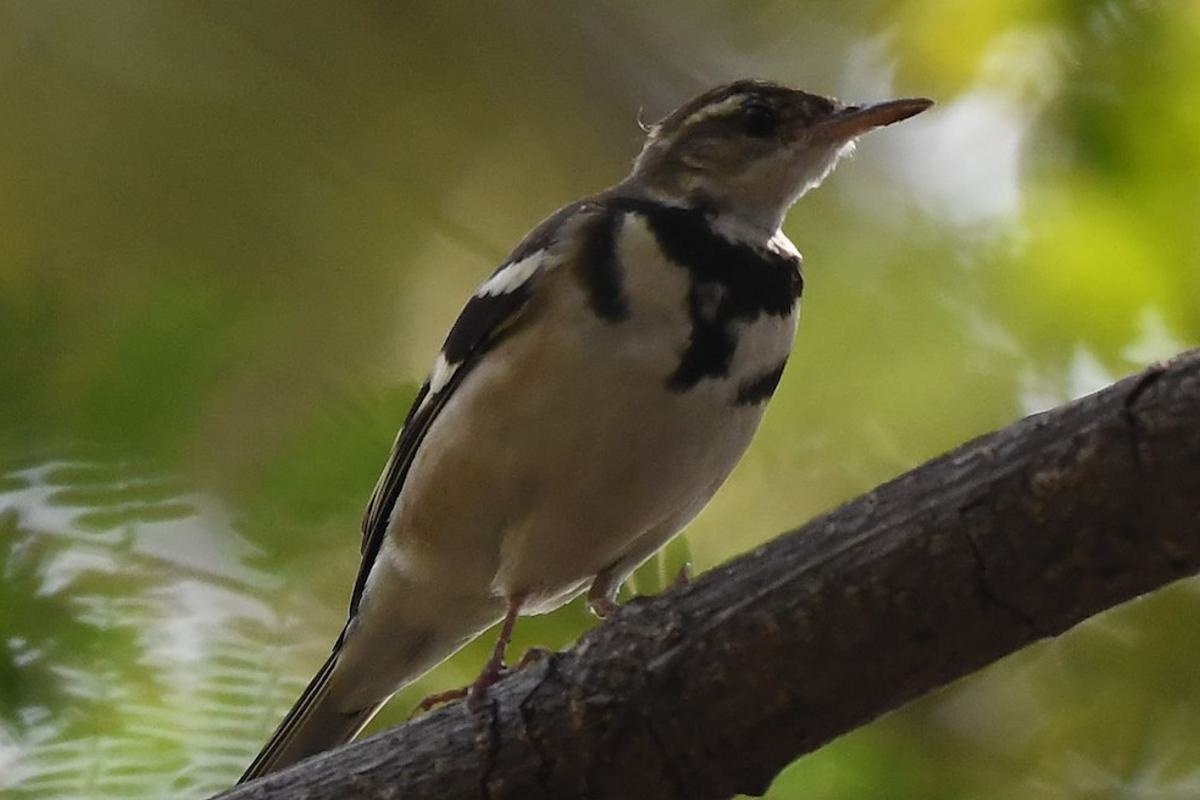wagtail: (318, 68, 923, 618)
